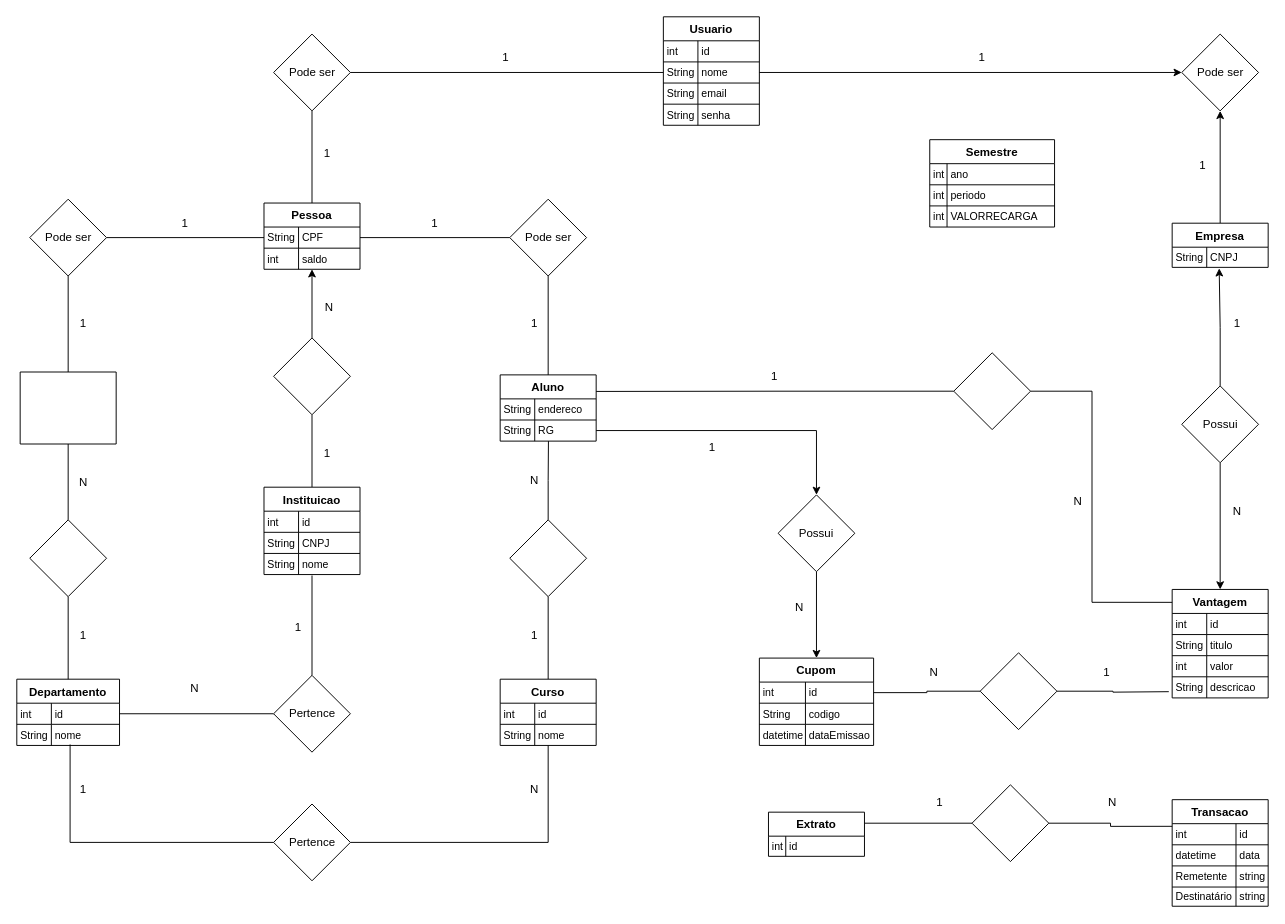
The diagram is 1285 pixels wide and 924 high, and some of its shapes have lost their labels. Here are the shapes that lost their labels. From the top down, the centre of each, then its label:
pixel 311 376: Vinculada
pixel 992 391: Tem acesso
pixel 67 407: Professor
pixel 68 558: Trabalha
pixel 548 558: Estuda
pixel 1018 691: Oferece
pixel 1010 823: Contém
